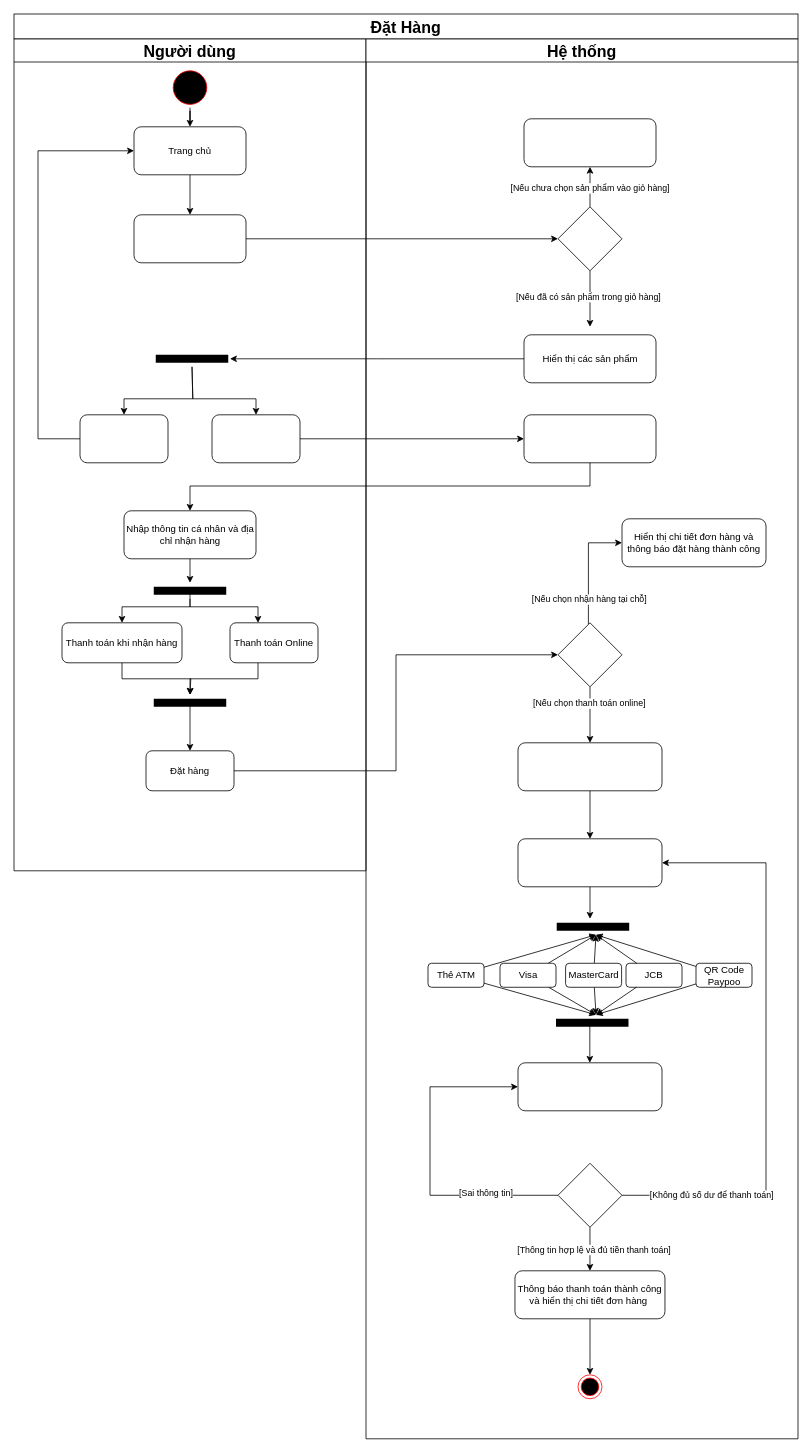
The diagram is 812 pixels wide and 1453 high, and some of its shapes have lost their labels. Each missing label, with the centre of its shape:
"Chuyển sang giao diện thanh toán" belongs at pixel 589 438.
"Chyển sang giao diện thanh toán Online" belongs at pixel 589 766.
"Chọn giỏ hàng" belongs at pixel 189 238.
"Chọn phương thức thanh toán" belongs at pixel 589 862.
"Nhập thông tin của hình thức thanh toán" belongs at pixel 589 1086.
"Thanh Toán" belongs at pixel 255 438.
"Thông báo chưa chọn sản phẩm nào vào giỏ hàng" belongs at pixel 589 142.
"Tiếp tục mua sắm" belongs at pixel 123 438.
